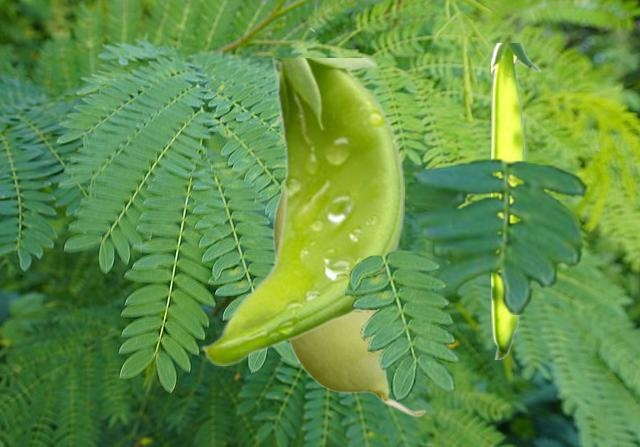pea: (200, 58, 403, 364), (270, 114, 426, 416), (491, 43, 540, 358)
